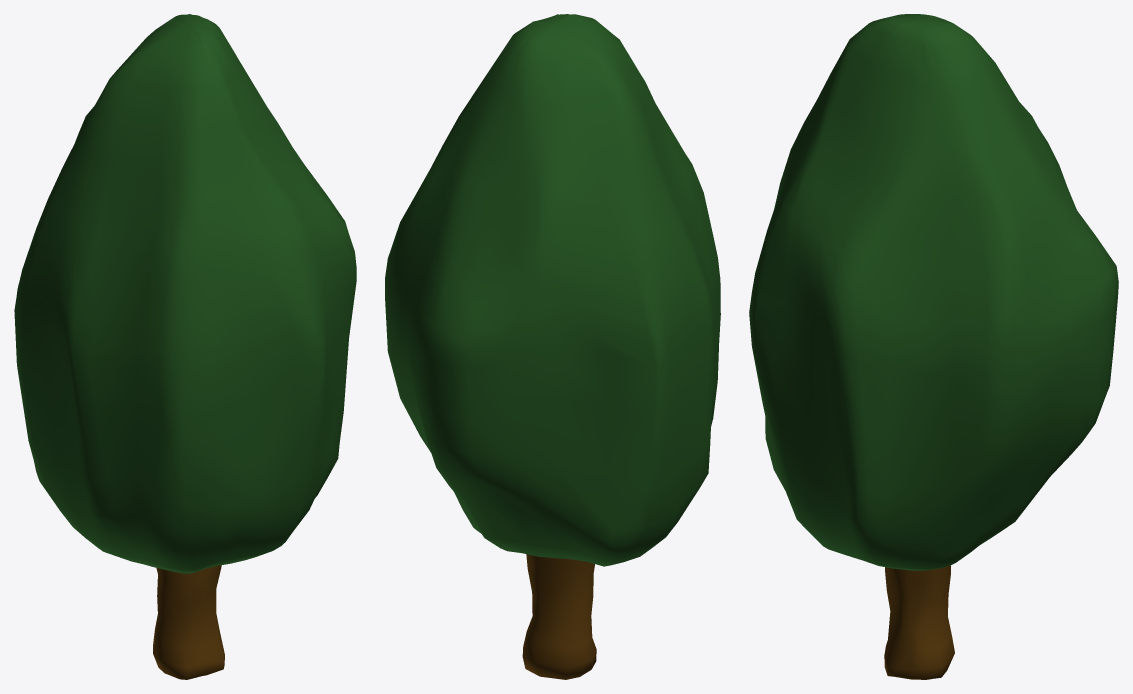
The model's file is Boom 1.fbx.
3 views of the same model, side by side, from view 1: azimuth 30°, elevation 25°; view 2: azimuth 150°, elevation 25°; view 3: azimuth 270°, elevation 25° (orthographic).
Parts seen in each view (by area): view 1: Treetop, TreeBot; view 2: Treetop, TreeBot; view 3: Treetop, TreeBot.
Part boxes in pixels (left/top/right/bottom): Treetop: left=14, top=14, right=356, bottom=573; TreeBot: left=153, top=565, right=224, bottom=679; Treetop: left=385, top=14, right=720, bottom=566; TreeBot: left=522, top=554, right=596, bottom=679; Treetop: left=749, top=14, right=1118, bottom=570; TreeBot: left=884, top=565, right=954, bottom=679.
Size of the model in its own units: 765 by 1719 by 885.
